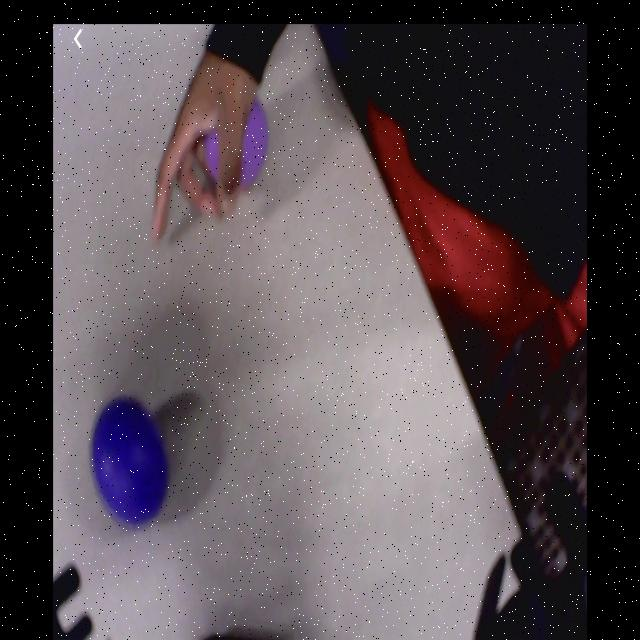ball: (92, 394, 172, 522), (206, 94, 269, 195)
